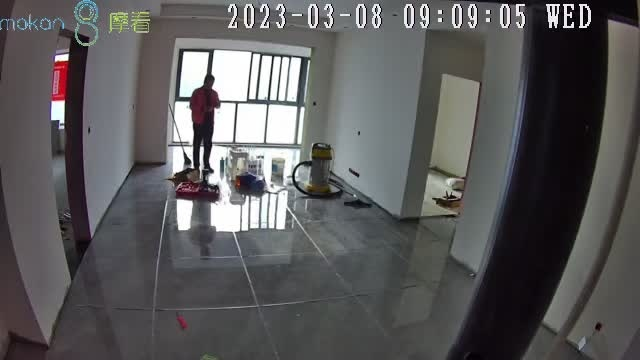people: (189, 74, 221, 173)
window: (172, 48, 308, 153)
